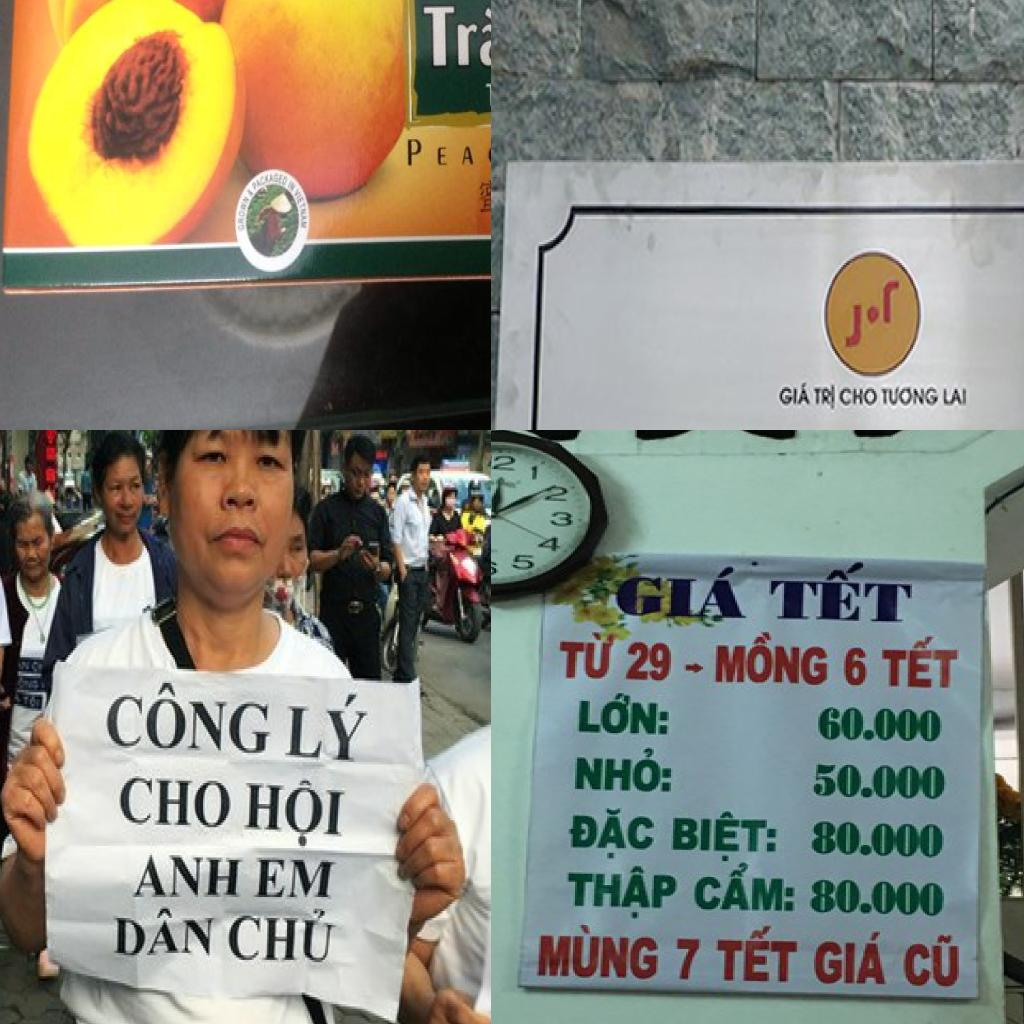text: (102, 676, 274, 757), (769, 558, 925, 626), (239, 774, 351, 853), (613, 565, 752, 623), (534, 922, 662, 984), (221, 904, 341, 969), (117, 769, 236, 834), (280, 686, 374, 764), (714, 629, 833, 688), (564, 864, 680, 922), (669, 807, 782, 864), (129, 851, 247, 904), (812, 816, 948, 861), (808, 877, 950, 920), (816, 701, 948, 746), (810, 760, 950, 802), (111, 909, 221, 962), (692, 862, 797, 916), (716, 922, 801, 987), (571, 746, 675, 798), (575, 686, 673, 740), (878, 631, 963, 693), (421, 0, 491, 72), (814, 927, 893, 989), (569, 807, 658, 861), (249, 853, 340, 904), (558, 629, 620, 683), (622, 637, 677, 685), (880, 380, 941, 410), (671, 934, 705, 982), (842, 643, 874, 690), (776, 376, 813, 410), (840, 383, 878, 412), (941, 383, 971, 414), (809, 380, 838, 412), (402, 133, 424, 172), (509, 552, 541, 572), (537, 531, 564, 554), (491, 451, 519, 473), (545, 484, 573, 502), (550, 511, 577, 528), (459, 145, 475, 169), (436, 142, 450, 169), (528, 462, 543, 484), (484, 80, 491, 110), (491, 558, 502, 577), (485, 144, 491, 167)
